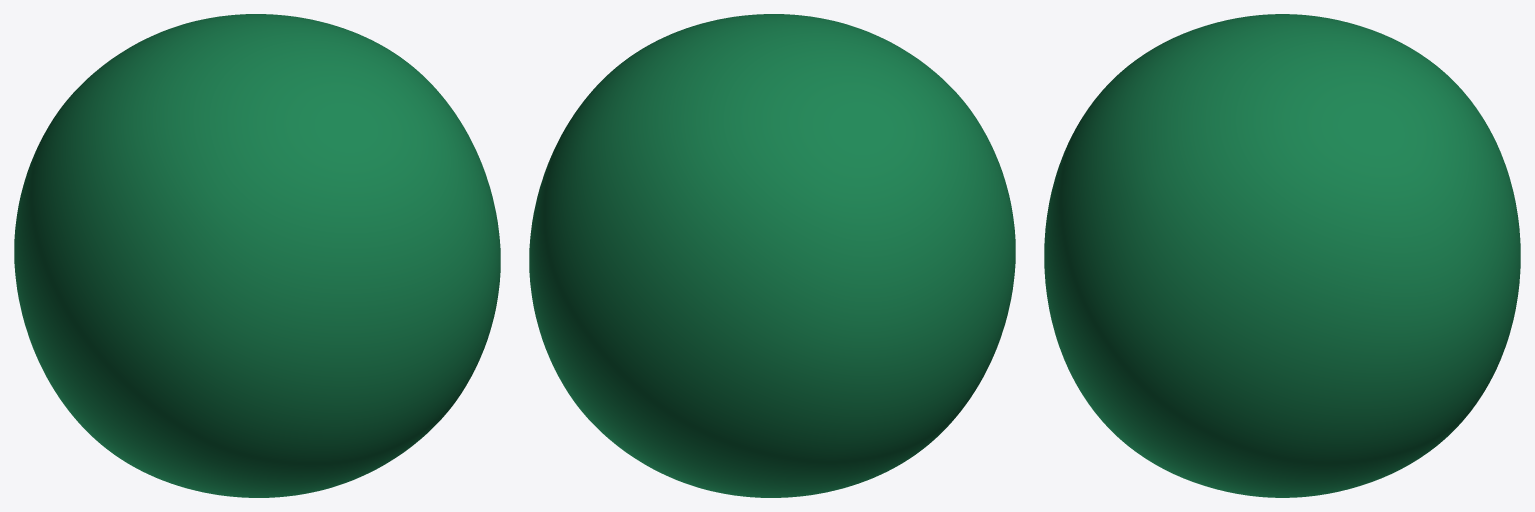
The model's file is Planet_Prototype_2.fbx.
The picture shows the model from 3 angles, left to right: view 1: azimuth 30°, elevation 25°; view 2: azimuth 150°, elevation 25°; view 3: azimuth 270°, elevation 25°; orthographic projection.
Visible parts, largest first — view 1: Planet; view 2: Planet; view 3: Planet.
Boxes of the visible parts, <box> form: Planet: <box>14,14,500,497</box>; Planet: <box>529,14,1015,497</box>; Planet: <box>1044,14,1520,497</box>.
Size of the model in its own units: 840 by 840 by 840.
